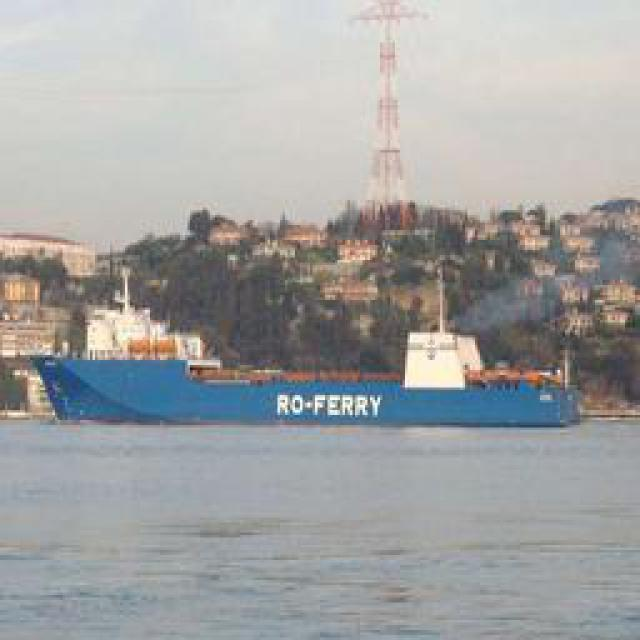Ship: (29, 354, 594, 429)
